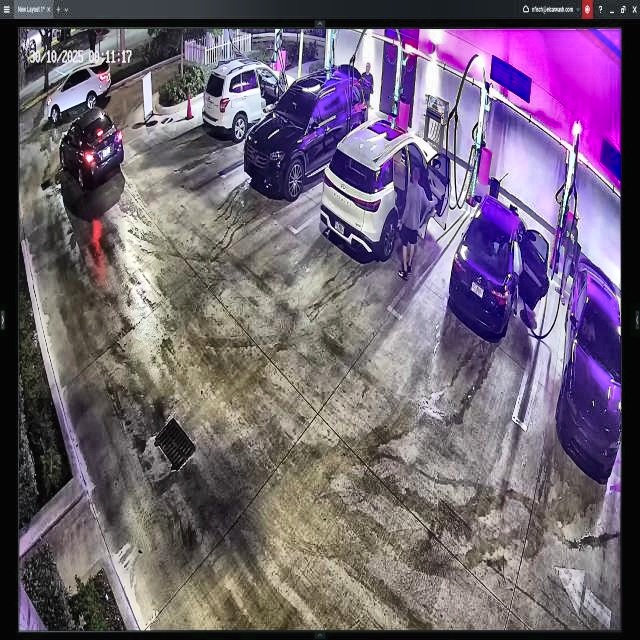Car: (322, 115, 448, 256), (247, 70, 368, 196), (450, 191, 549, 337)
